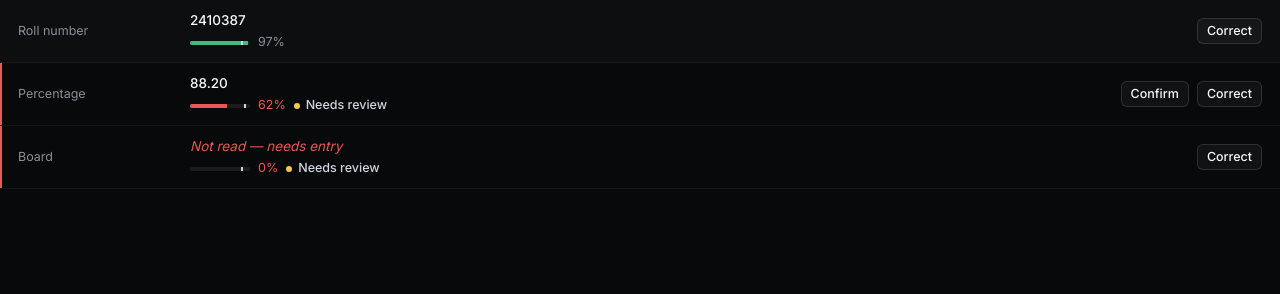
FieldList review and correction › shows a server error inline
The width and height of the screenshot is (1280, 294).
Click the button "Correct" in the row of "97" at [1229, 31], box x1=1197 y1=18 x2=1262 y2=44
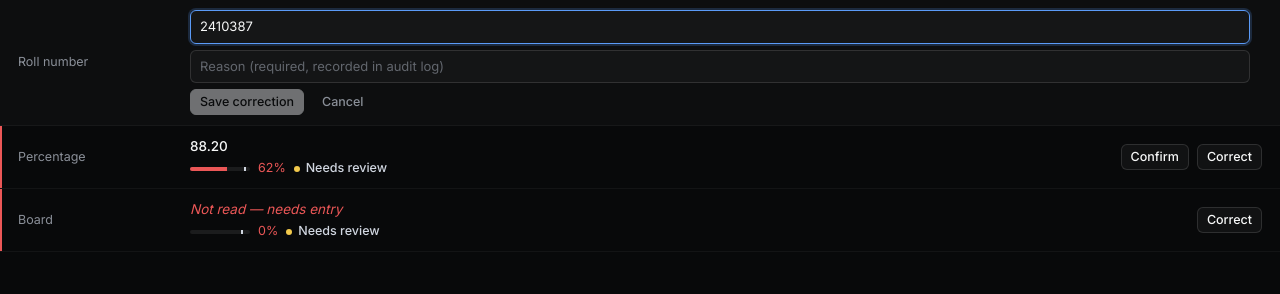
Type "Typo fix" into the field named "Reason for correction" at [720, 66], box x1=190 y1=50 x2=1250 y2=83
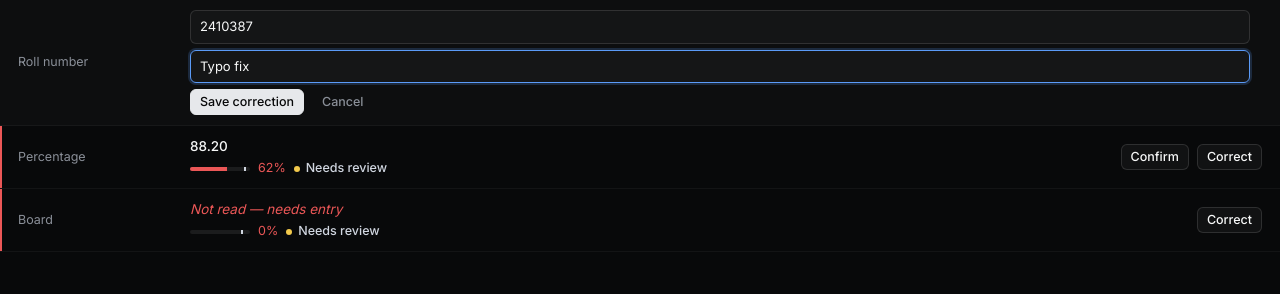
Click the button "Save correction" at [247, 102], box x1=190 y1=89 x2=304 y2=115
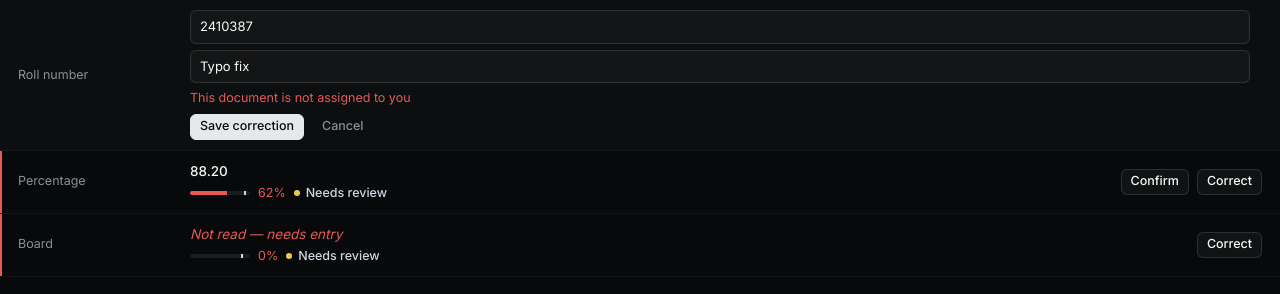
Expected: the text "This document is not assigned to you" is shown, x1=190 y1=90 x2=410 y2=105
